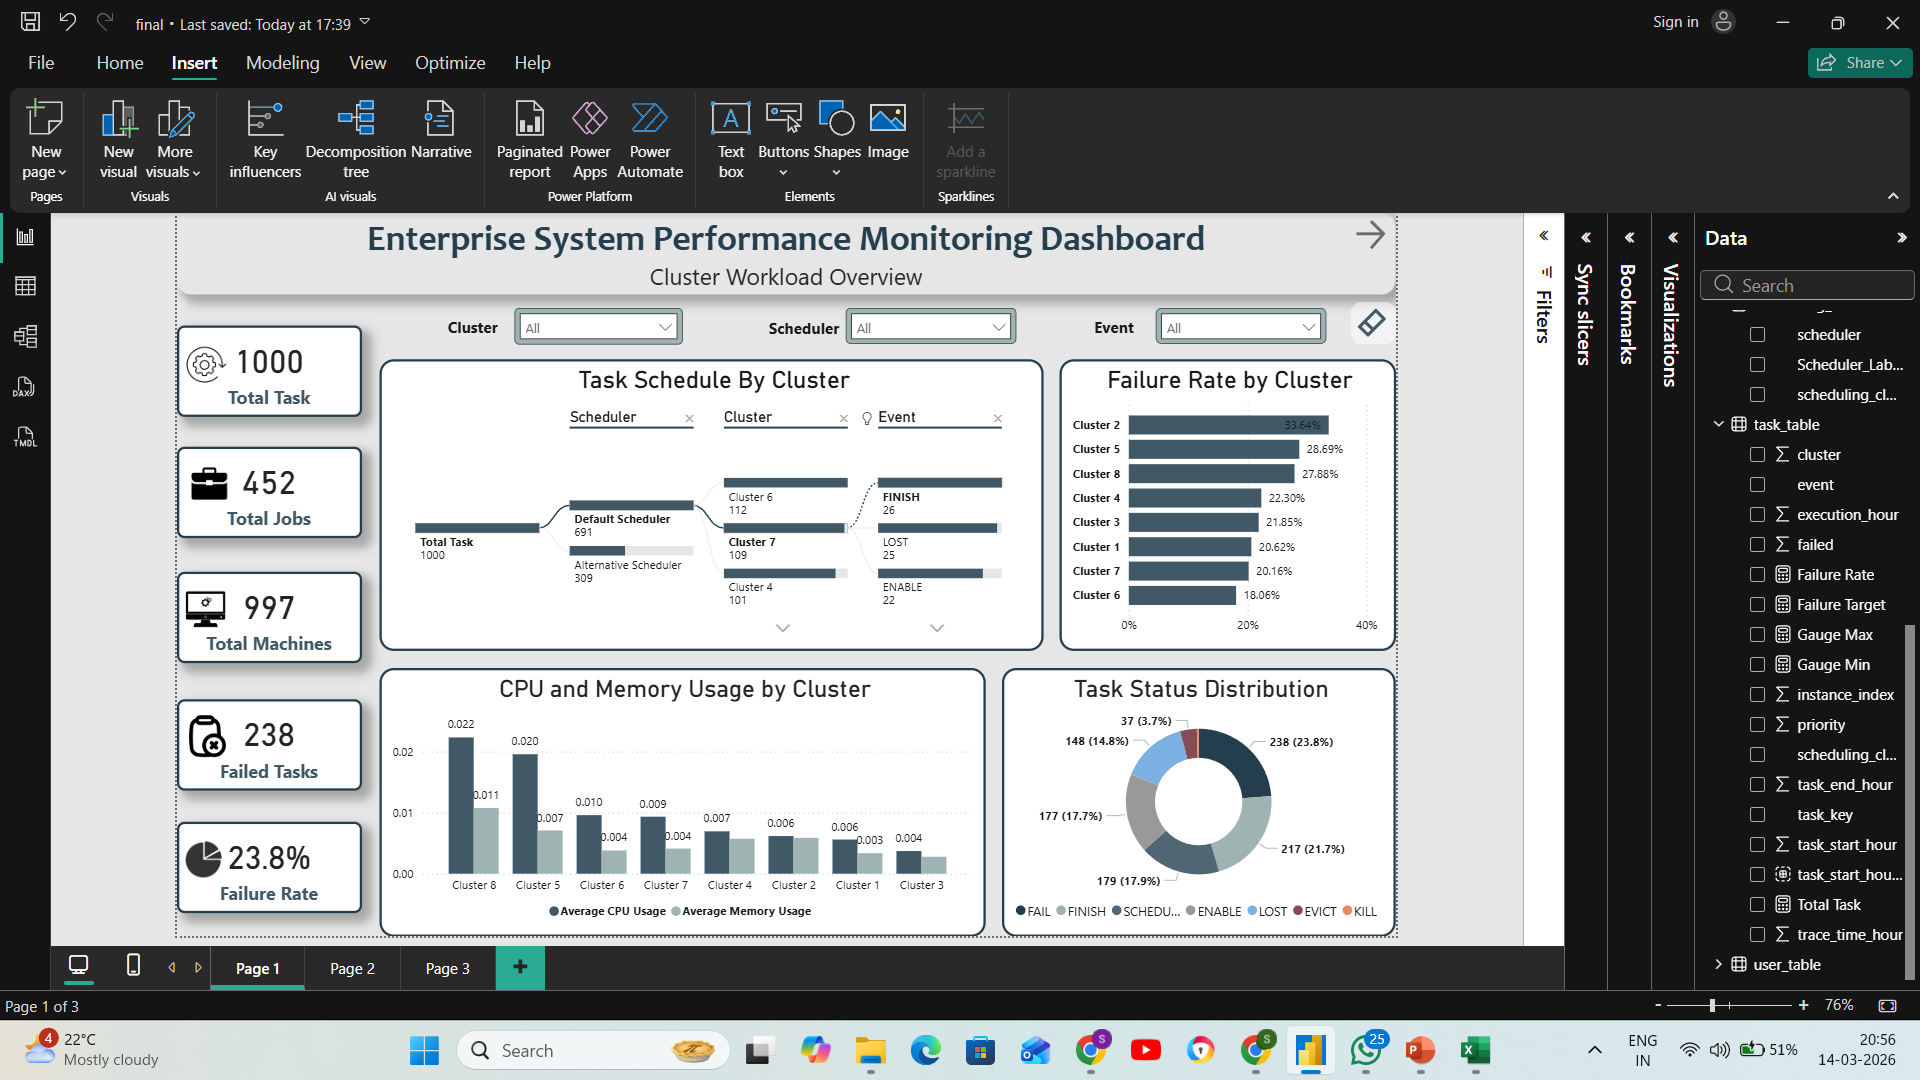

The dashboard page shown, as its layout file describes it:
{"tool":"powerbi","page":{"name":"Page 1","canvas":[1280,760],"ordinal":0},"visuals":[{"type":"card","fields":{"Values":["task_table.Total Task"]},"box":[0,118.2,194.3,95.9],"z":0},{"type":"card","fields":{"Values":["job_table.Total Jobs"]},"box":[0,245.5,194.3,95.9],"z":1000},{"type":"card","fields":{"Values":["machine_table.Total Machines"]},"box":[0,376.9,194.3,95.9],"z":2000},{"type":"card","fields":{"Values":["task_table.Failure Rate"]},"box":[0,639.5,194.3,95.9],"z":3000},{"type":"donutChart","title":"Task Status Distribution","fields":{"Y":["task_table.Total Task"],"Category":["task_table.event"]},"box":[866.6,478,413.6,282.3],"z":4000},{"type":"decompositionTreeVisual","title":"Task Schedule By Cluster","fields":{"Analyze":["task_table.Total Task"],"ExplainBy":["scheduling_table.Scheduler_Label","machine_table.cluster_Label","task_table.event"]},"box":[212.7,153,697.9,306],"z":5000},{"type":"clusteredColumnChart","title":"CPU and Memory Usage by Cluster","fields":{"Category":["machine_table.cluster_Label"],"Y":["Avg(resource_table.avg_cpu_usage)","Avg(resource_table.avg_memory_usage)"]},"box":[212.7,478,636.8,282.3],"z":6000},{"type":"textbox","box":[0,0,1280,85.8],"z":7000},{"type":"slicer","title":"Cluster","fields":{"Values":["machine_table.cluster_Label"]},"box":[354.5,99.5,176.6,38.6],"z":8000},{"type":"textbox","box":[266.2,103.2,88.3,33.6],"z":9000},{"type":"textbox","box":[614.5,104.5,88.3,33.6],"z":10000},{"type":"slicer","title":"Cluster","fields":{"Values":["scheduling_table.Scheduler_Label"]},"box":[702.8,99.5,179.1,37.3],"z":11000},{"type":"slicer","title":"Cluster","fields":{"Values":["event_table.event"]},"box":[1028.8,99.5,179.1,37.3],"z":12000},{"type":"textbox","box":[940.4,103.2,88.3,33.6],"z":13000},{"type":"barChart","title":"Failure Rate by Cluster ","fields":{"Category":["machine_table.cluster_Label"],"Y":["task_table.Failure Rate"]},"box":[926.7,153,353.3,306],"z":14000},{"type":"card","fields":{"Values":["event_table.Failed Tasks"]},"box":[0,510.8,194.3,95.9],"z":15000},{"type":"image","box":[5.3,136.6,51.2,46],"z":16000},{"type":"image","box":[9.2,262.6,49.9,43.3],"z":17000},{"type":"image","box":[5.3,391.3,49.9,49.9],"z":18000},{"type":"image","box":[2.6,525.2,53.8,48.6],"z":19000},{"type":"image","box":[5.3,655.2,44.6,48.6],"z":20000},{"type":"actionButton","box":[1233,93.2,47.3,45],"z":21000},{"type":"actionButton","box":[1233.5,2.9,41.9,40.5],"z":21001}]}

Visuals, with their boxes on the page's 1280x760 design canvas (x1, y1, x2, y2). These are canvas units, not pixel positions in the 1920x1080 screenshot, which may show the page scaled, cropped or inside an application window:
card - task_table.Total Task: {"x1": 0, "y1": 118, "x2": 194, "y2": 214}
card - job_table.Total Jobs: {"x1": 0, "y1": 246, "x2": 194, "y2": 341}
card - machine_table.Total Machines: {"x1": 0, "y1": 377, "x2": 194, "y2": 473}
card - task_table.Failure Rate: {"x1": 0, "y1": 640, "x2": 194, "y2": 735}
"Task Status Distribution" donutChart: {"x1": 867, "y1": 478, "x2": 1280, "y2": 760}
"Task Schedule By Cluster" decompositionTreeVisual: {"x1": 213, "y1": 153, "x2": 911, "y2": 459}
"CPU and Memory Usage by Cluster" clusteredColumnChart: {"x1": 213, "y1": 478, "x2": 850, "y2": 760}
textbox: {"x1": 0, "y1": 0, "x2": 1280, "y2": 86}
"Cluster" slicer: {"x1": 354, "y1": 100, "x2": 531, "y2": 138}
textbox: {"x1": 266, "y1": 103, "x2": 354, "y2": 137}
textbox: {"x1": 614, "y1": 104, "x2": 703, "y2": 138}
"Cluster" slicer: {"x1": 703, "y1": 100, "x2": 882, "y2": 137}
"Cluster" slicer: {"x1": 1029, "y1": 100, "x2": 1208, "y2": 137}
textbox: {"x1": 940, "y1": 103, "x2": 1029, "y2": 137}
"Failure Rate by Cluster " barChart: {"x1": 927, "y1": 153, "x2": 1280, "y2": 459}
card - event_table.Failed Tasks: {"x1": 0, "y1": 511, "x2": 194, "y2": 607}
image: {"x1": 5, "y1": 137, "x2": 56, "y2": 183}
image: {"x1": 9, "y1": 263, "x2": 59, "y2": 306}
image: {"x1": 5, "y1": 391, "x2": 55, "y2": 441}
image: {"x1": 3, "y1": 525, "x2": 56, "y2": 574}
image: {"x1": 5, "y1": 655, "x2": 50, "y2": 704}
actionButton: {"x1": 1233, "y1": 93, "x2": 1280, "y2": 138}
actionButton: {"x1": 1234, "y1": 3, "x2": 1275, "y2": 43}
